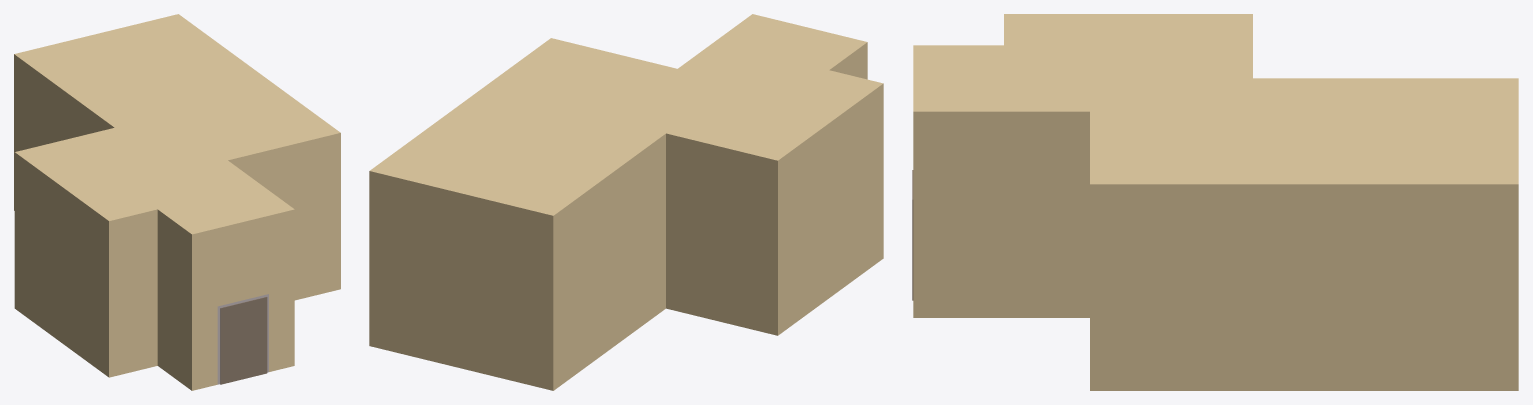
The model's file is template.fbx.
3 renders of one model, left to right at view 1: azimuth 30°, elevation 25°; view 2: azimuth 150°, elevation 25°; view 3: azimuth 270°, elevation 25°, orthographic. The views are drawn at different scales.
Parts seen in each view (by area): view 1: Ruangan, Pintu; view 2: Ruangan; view 3: Ruangan.
Boxes of the visible parts, x1,y1,x2,y2 form: Ruangan: (14, 14, 340, 390); Pintu: (220, 297, 267, 384); Ruangan: (369, 14, 883, 390); Ruangan: (913, 14, 1518, 390).
Bounding box in the file's own units: 7738 × 4389 × 11643.
